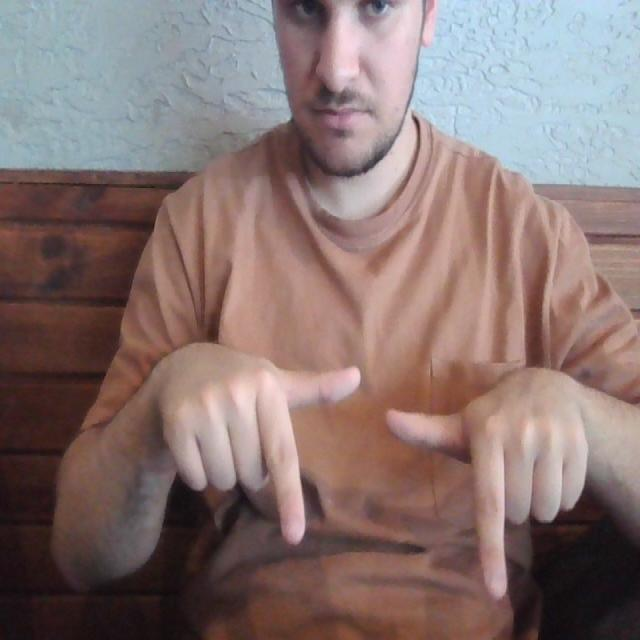Nerede: (255, 348, 512, 612)
